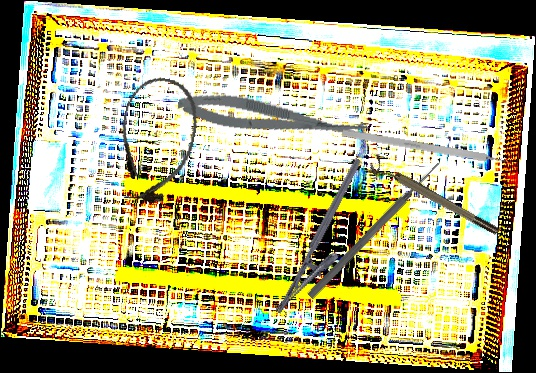Cannula: (107, 71, 206, 210)
Fixation Ring: (366, 154, 502, 243)
Hook Surgical: (341, 128, 520, 168)
Micro Scissor: (175, 85, 370, 153)
Needle Holder: (273, 157, 384, 326)
Pusher: (305, 159, 444, 301)
